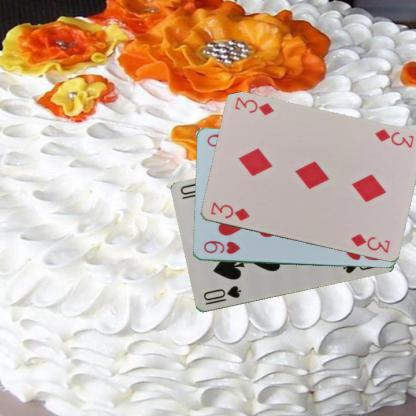10s: (201, 283, 242, 307)
3d: (372, 126, 415, 150), (207, 199, 251, 222)
9h: (201, 238, 242, 255)
